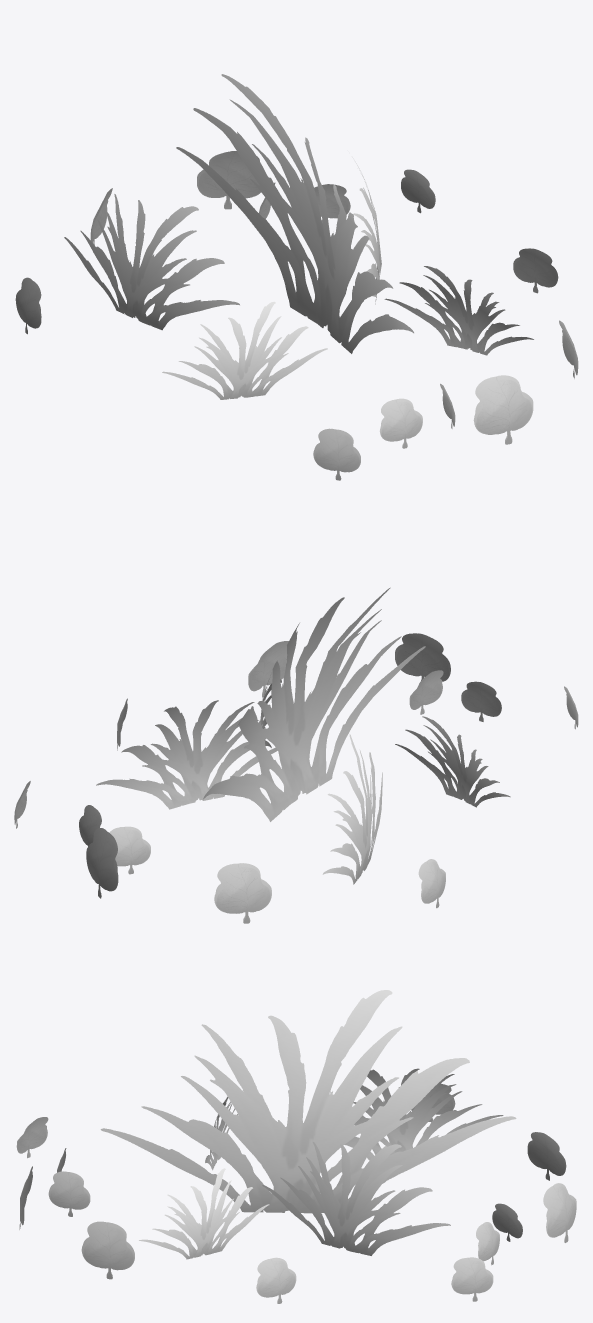
The model's file is Grass_2.fbx.
The picture shows the model from 3 angles, top to bottom: view 1: azimuth 30°, elevation 25°; view 2: azimuth 150°, elevation 25°; view 3: azimuth 270°, elevation 25°; orthographic projection. The views are drawn at different scales.
Visible parts, largest first — view 1: Grass_2; view 2: Grass_2; view 3: Grass_2.
Boxes of the visible parts, x1,y1,x2,y2 form: Grass_2: [15, 74, 578, 480]; Grass_2: [14, 587, 578, 923]; Grass_2: [16, 990, 576, 1303].
Bounding box in the file's own units: 1.69 × 1.01 × 2.16.
